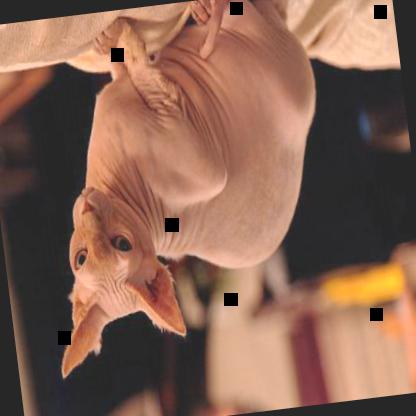cat: (17, 0, 349, 380)
